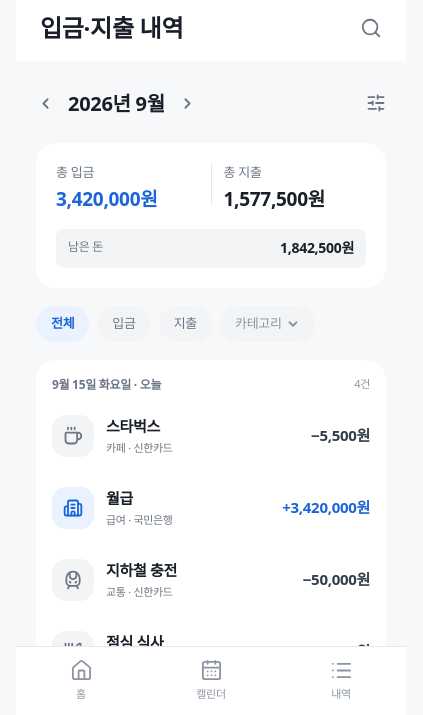
Test: HistoryPage › 입금 필터를 누르면 월급만 남고 URL 에 type 이 반영되며 합계는 달 전체다
The width and height of the screenshot is (423, 715).
Click the radio button labelled "입금" at (124, 324), box x1=97 y1=306 x2=151 y2=342
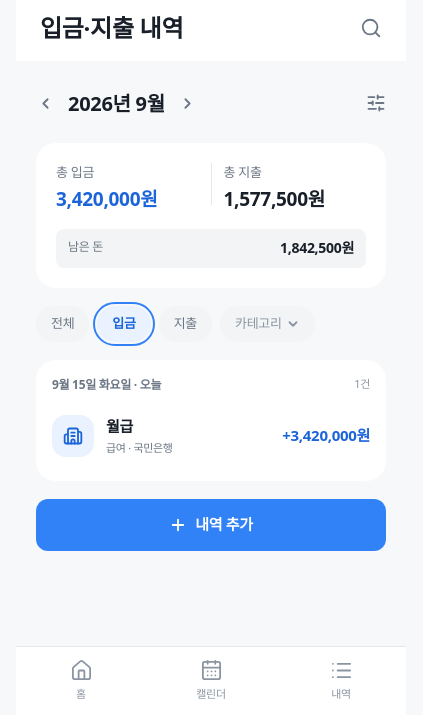
Expected: the text "월급" is shown, x1=106 y1=416 x2=133 y2=436
Expected: the text "스타벅스" is gone
